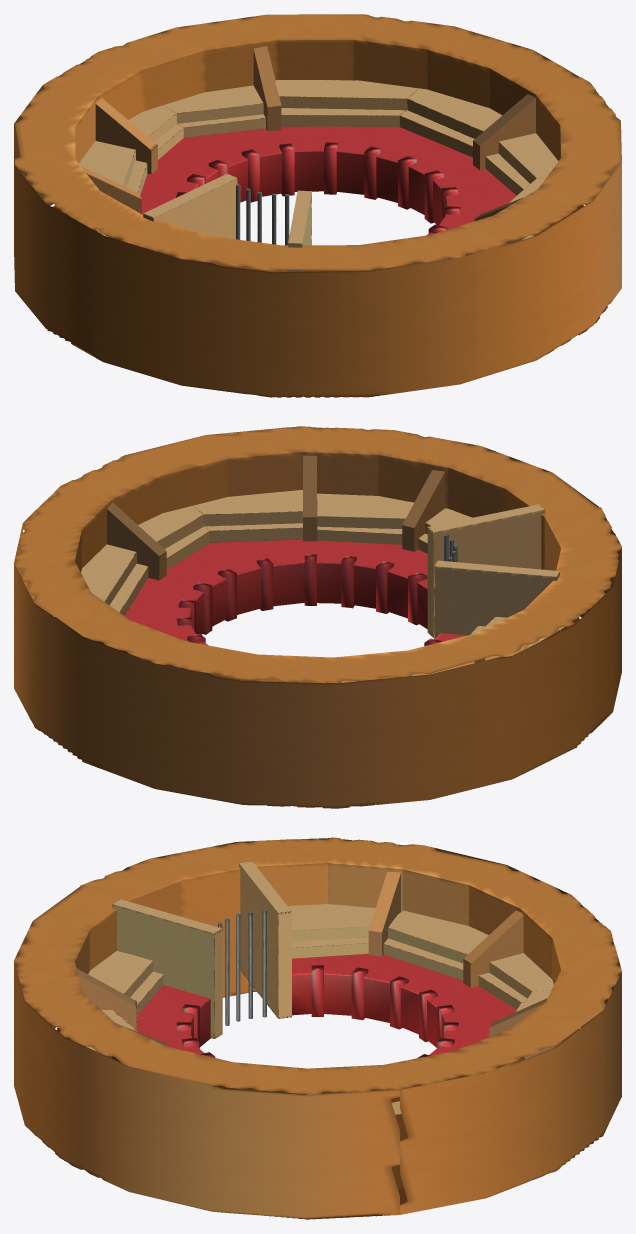
The model's file is arenatake01.fbx.
3 renders of one model, top to bottom at view 1: azimuth 30°, elevation 25°; view 2: azimuth 150°, elevation 25°; view 3: azimuth 270°, elevation 25°, orthographic.
Parts seen in each view (by area): view 1: arena1; view 2: arena1; view 3: arena1.
Boxes of the visible parts, bbox=[...] form: arena1: bbox=[14, 14, 621, 397]; arena1: bbox=[14, 426, 621, 808]; arena1: bbox=[14, 837, 621, 1219].
Size of the model in its own units: 2853 by 670 by 2853.
